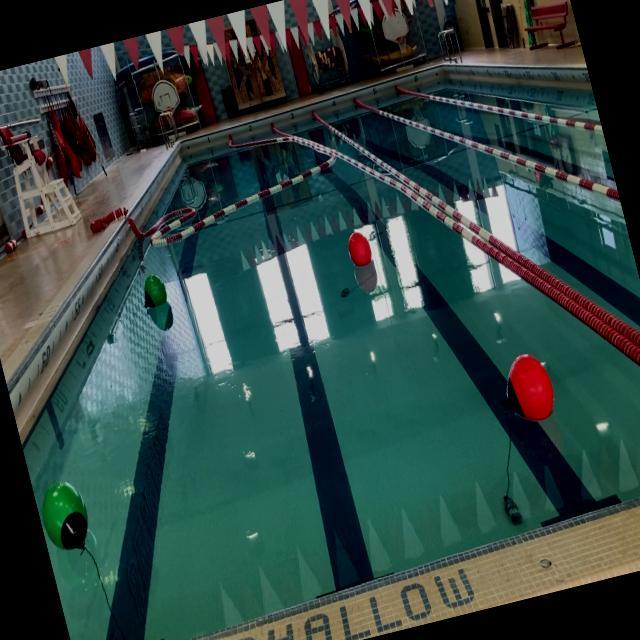buoy: (492, 349, 559, 428), (34, 472, 94, 558), (138, 270, 170, 314), (344, 226, 374, 268)
